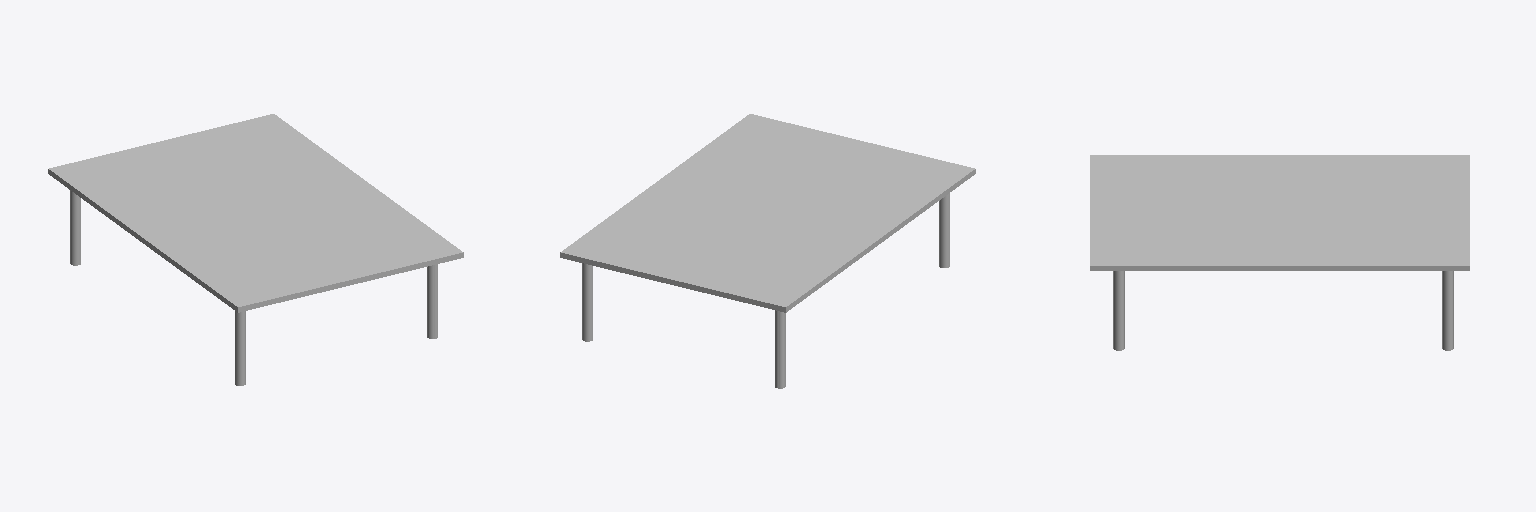
Rendered from tafel.obj.
3 renders of one model, left to right at view 1: azimuth 30°, elevation 25°; view 2: azimuth 150°, elevation 25°; view 3: azimuth 270°, elevation 25°, orthographic.
Visible parts, largest first — view 1: Plane; view 2: Plane; view 3: Plane.
Part boxes in pixels (left/top/right/bottom): Plane: left=48, top=114, right=463, bottom=385; Plane: left=560, top=114, right=975, bottom=388; Plane: left=1090, top=155, right=1469, bottom=350.
Size of the model in its own units: 56.51 by 21.75 by 82.26.